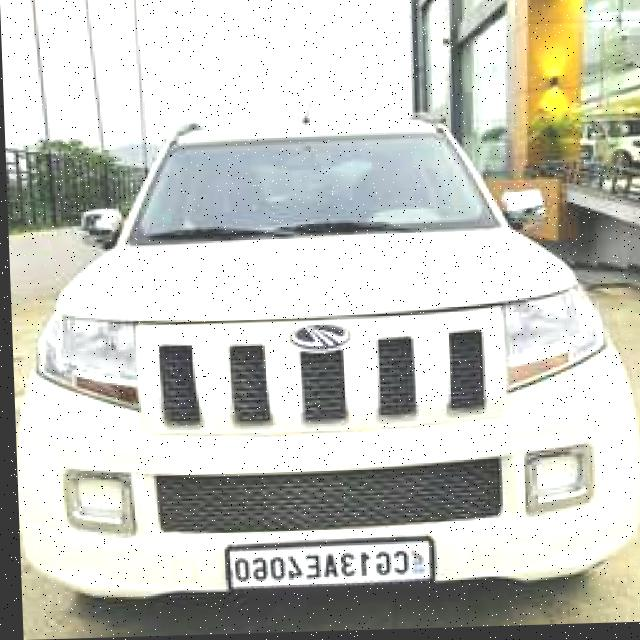plate: (220, 538, 431, 591)
